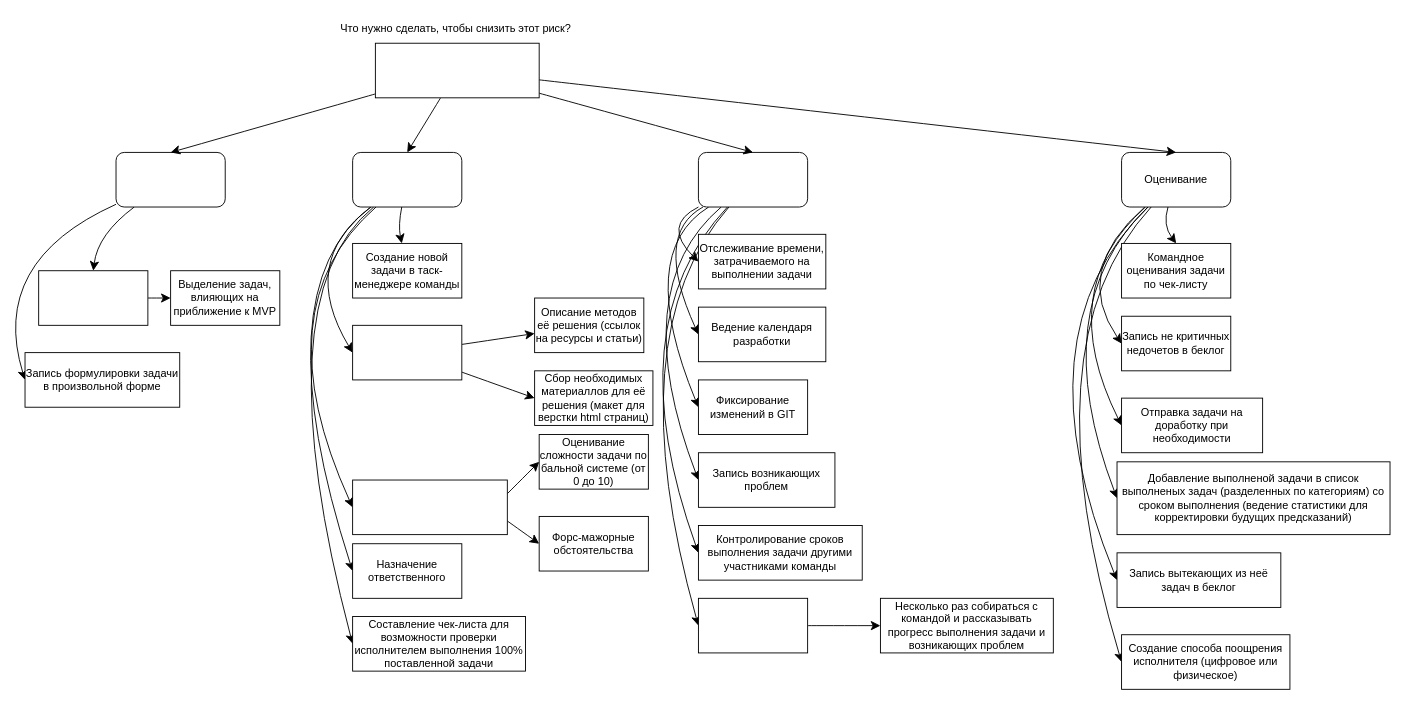
Image size: 1416x705. Some labels were removed from this diagram. The centre of each missing label's shape, as x and y in pixels:
"Во время решения задачи общаться с командой" goes at (x=753, y=625).
"Командное оценивание времени, и постановка четких сроков" goes at (x=429, y=507).
"Отделение срочных задач, остальные записывать в беклог" goes at (x=93, y=297).
"Отсутствие контроля за выполнением задач" goes at (x=456, y=70).
"Планирование" goes at (x=170, y=179).
"Постановка" goes at (x=407, y=179).
"Реализация" goes at (x=753, y=179).
"Создание полного описания задачи" goes at (x=407, y=352).
